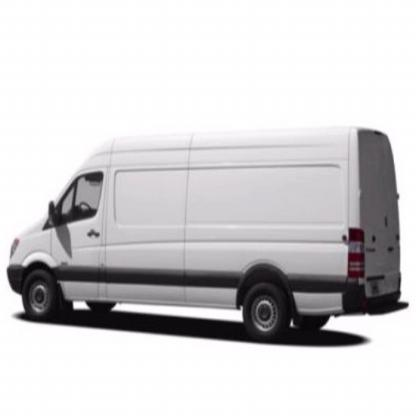Vehicle: (9, 127, 409, 340)
